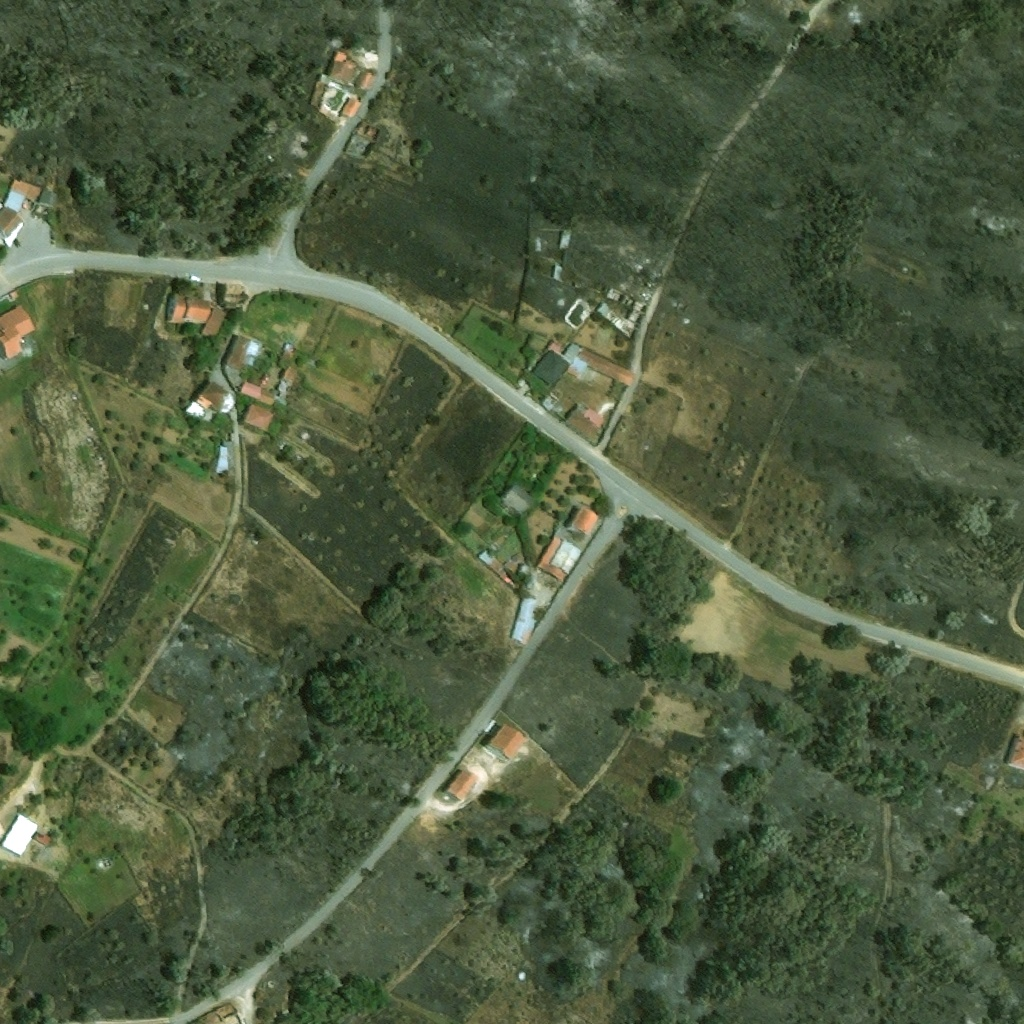0 no-damage: (165, 292, 229, 341), (532, 339, 582, 387), (535, 535, 583, 584), (578, 350, 636, 386), (483, 718, 530, 760), (0, 305, 35, 360), (220, 332, 264, 374), (191, 379, 237, 414), (564, 404, 604, 442), (496, 481, 535, 519), (440, 767, 478, 805), (566, 504, 602, 540), (324, 49, 357, 84), (241, 402, 278, 432), (508, 601, 535, 642), (239, 380, 276, 405), (0, 206, 25, 240), (309, 74, 330, 109), (1, 189, 29, 214), (273, 367, 296, 394), (10, 180, 40, 199), (566, 356, 589, 380), (541, 387, 564, 411), (339, 96, 361, 119), (184, 400, 208, 421), (214, 445, 231, 474), (279, 339, 299, 363), (37, 187, 59, 208), (354, 70, 373, 91), (33, 831, 52, 846), (516, 563, 528, 576), (8, 290, 18, 300)
1 minor-damage: (217, 284, 249, 306)
3 destroyed: (606, 286, 649, 341), (550, 229, 573, 282), (594, 301, 629, 332), (354, 119, 383, 144), (193, 1011, 221, 1023)
4 un-classified: (1004, 734, 1023, 770)
